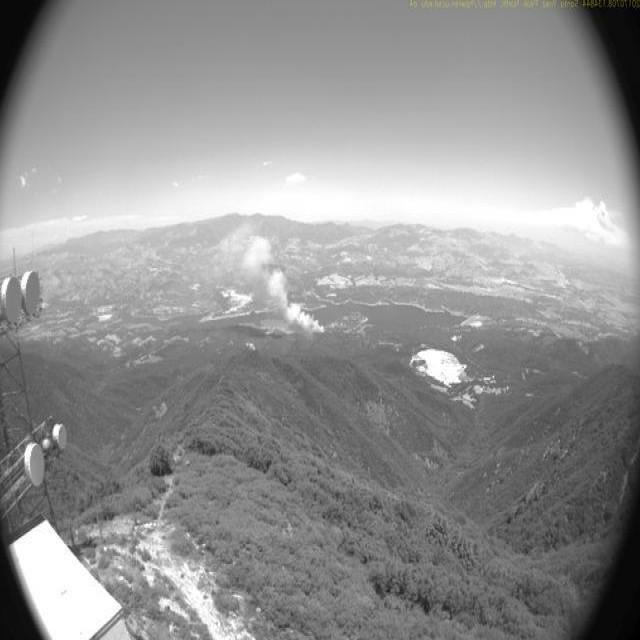Smoke: (203, 221, 335, 336)
